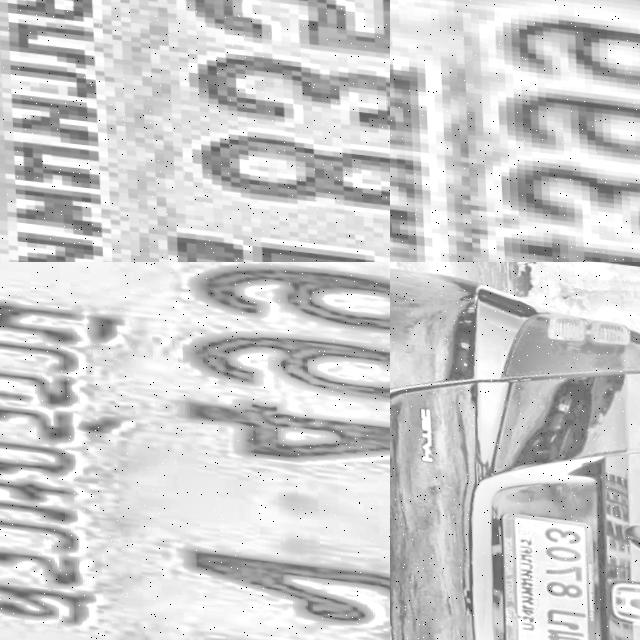license-plate: (0, 262, 390, 640), (0, 0, 390, 262), (390, 0, 640, 262), (493, 502, 596, 640)
